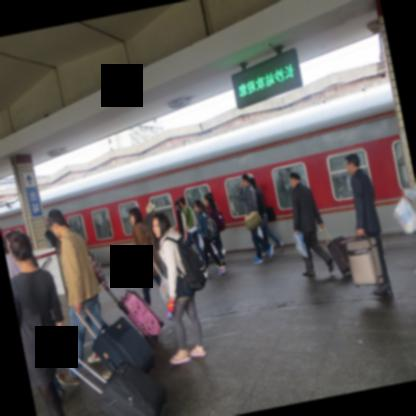backpack: (176, 237, 207, 289), (206, 214, 222, 242), (212, 210, 226, 231)
handbag: (244, 187, 262, 231), (258, 187, 276, 222), (135, 250, 144, 279)
suitcase: (61, 352, 163, 416), (74, 305, 156, 373), (105, 285, 163, 347), (343, 233, 387, 288), (318, 223, 347, 277)
